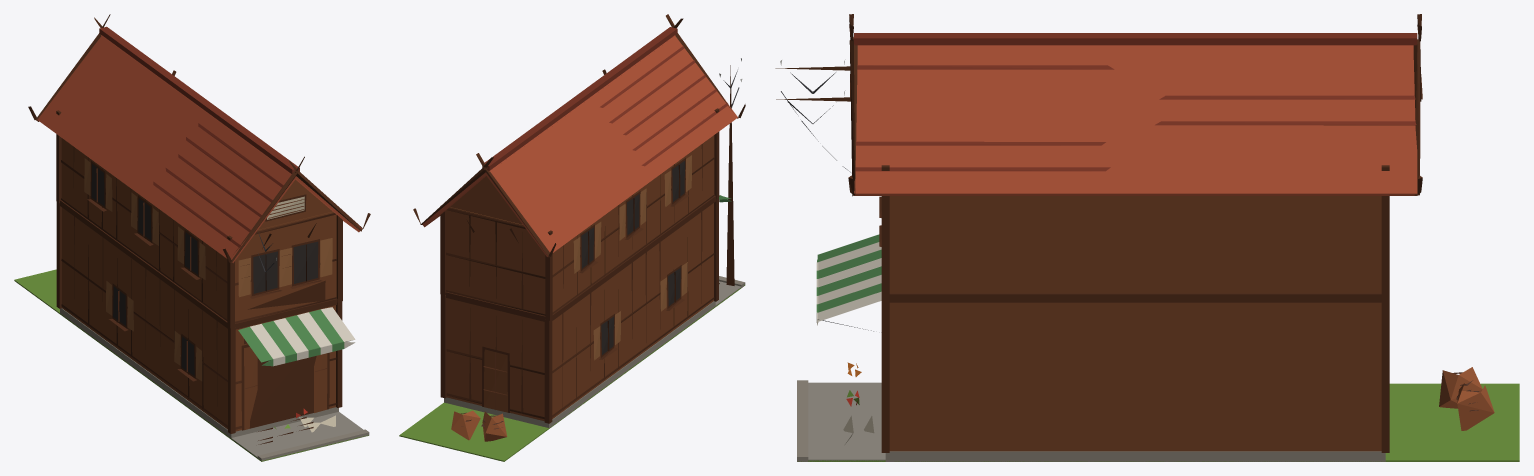
Rendered from bay1_left.glb.
3 renders of one model, left to right at view 1: azimuth 30°, elevation 25°; view 2: azimuth 150°, elevation 25°; view 3: azimuth 270°, elevation 25°, orthographic. The views are drawn at different scales.
Parts seen in each view (by area): view 1: body, windows; view 2: body, windows; view 3: body.
Part boxes in pixels (left/top/right/bottom): body: left=14, top=14, right=370, bottom=461; windows: left=91, top=164, right=318, bottom=375; body: left=399, top=14, right=745, bottom=461; windows: left=581, top=161, right=684, bottom=354; body: left=775, top=14, right=1519, bottom=461.
Bounding box in the file's own units: 5.46 × 9.84 × 16.4.
